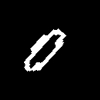chain: (24, 29, 65, 70)
